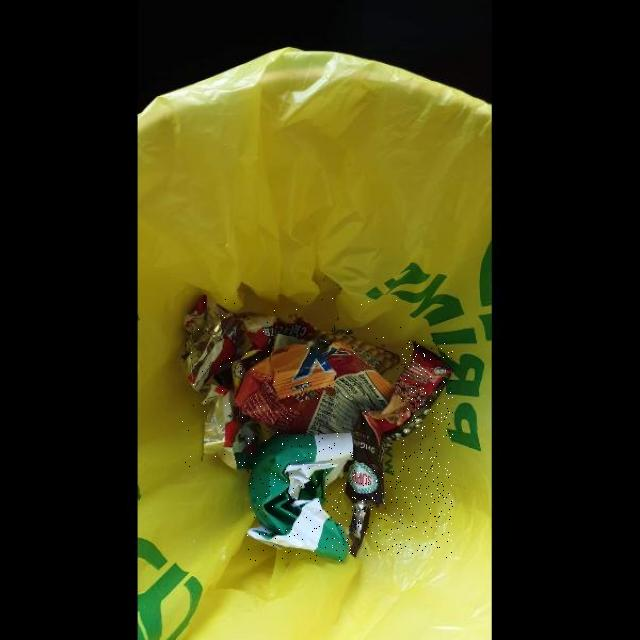paper: (247, 433, 354, 562)
wrapper: (182, 296, 401, 470), (345, 340, 453, 558)
